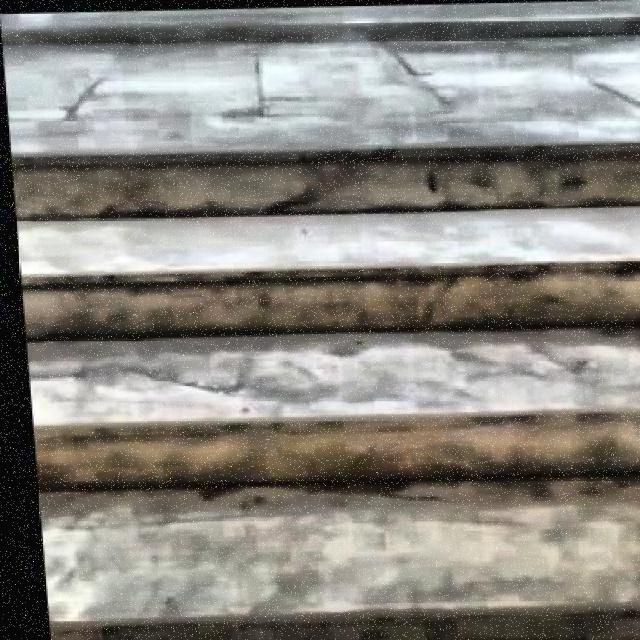stair: (9, 134, 640, 638)
